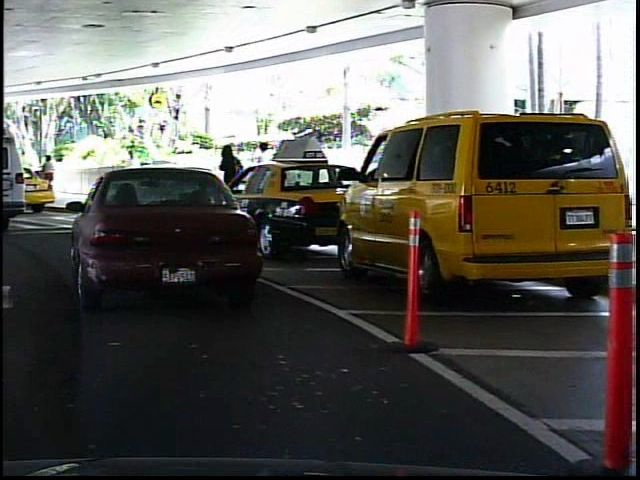person: (215, 139, 249, 213), (252, 137, 279, 212), (119, 144, 144, 204), (39, 151, 61, 198)
